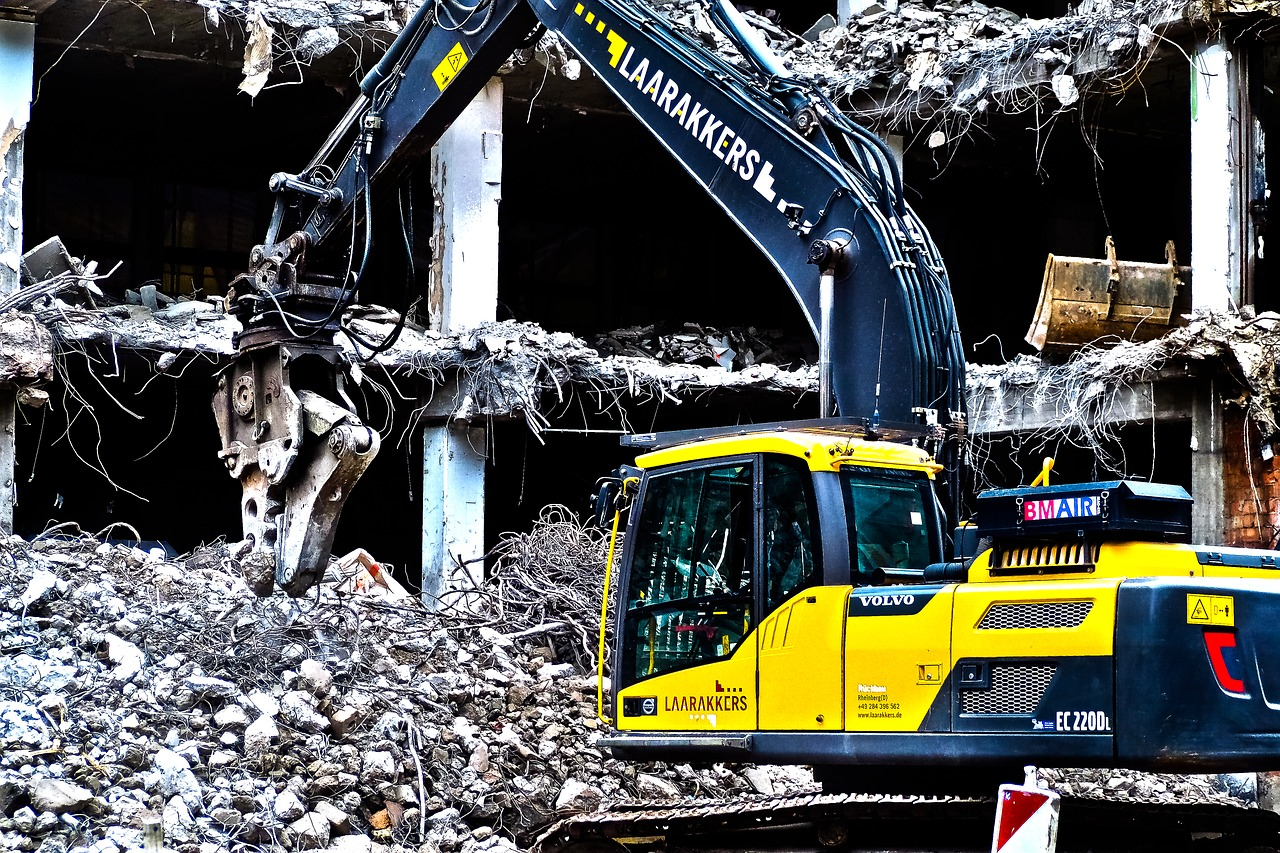excavator: (223, 6, 1280, 853)
